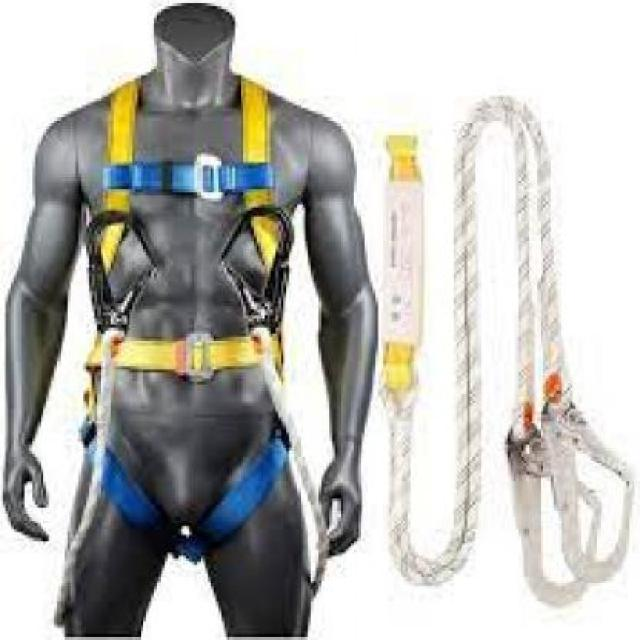Harness: (75, 68, 307, 549)
